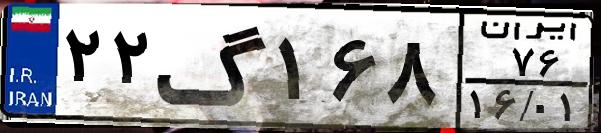0: (535, 70, 560, 125)
1: (270, 28, 330, 110), (560, 70, 590, 125), (470, 70, 495, 125)
2: (57, 26, 110, 100), (110, 28, 156, 98)
6: (330, 28, 385, 110), (537, 27, 568, 80), (495, 70, 520, 125)
7: (508, 27, 537, 80)
8: (385, 28, 445, 110)
گ: (156, 12, 270, 120)
